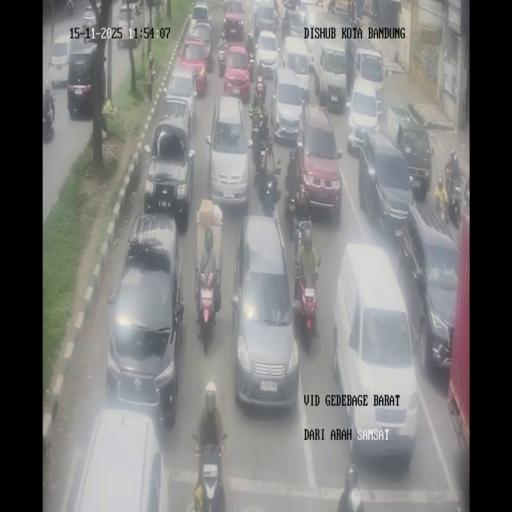car: (333, 245, 417, 459), (106, 212, 186, 423), (231, 214, 299, 407), (62, 408, 166, 510), (403, 208, 460, 370), (144, 109, 195, 226), (294, 103, 343, 223), (206, 92, 251, 214), (386, 108, 433, 194), (67, 41, 105, 119), (347, 82, 380, 151), (316, 44, 348, 110), (164, 66, 200, 124), (281, 36, 311, 101), (222, 43, 251, 102), (186, 20, 213, 74), (254, 29, 280, 81), (48, 34, 72, 88), (115, 4, 143, 50), (222, 0, 246, 41), (252, 0, 276, 37), (283, 8, 306, 41), (79, 5, 99, 37), (68, 29, 86, 55), (298, 0, 318, 14)
motorcycle: (193, 254, 221, 352), (192, 436, 228, 510), (293, 256, 319, 347), (250, 115, 268, 172), (293, 212, 313, 262), (260, 166, 280, 216), (284, 186, 299, 236), (448, 179, 462, 226), (435, 190, 449, 227), (42, 102, 54, 142), (254, 70, 266, 104), (247, 47, 256, 81), (218, 41, 226, 76), (346, 0, 354, 23), (66, 1, 74, 17), (134, 0, 142, 16), (327, 0, 336, 13)
